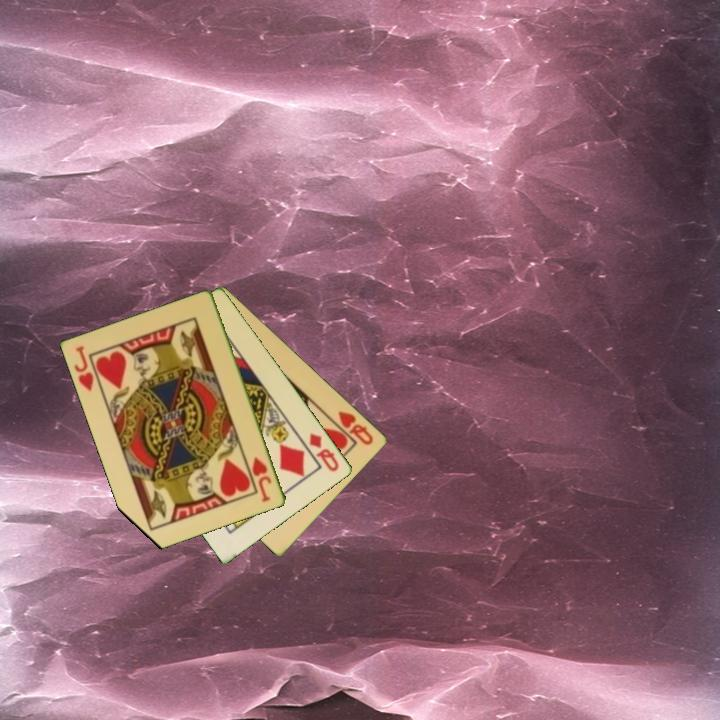Jh: (249, 453, 275, 505), (71, 342, 97, 394)
Qd: (306, 430, 342, 475)
Qh: (335, 407, 376, 448)
